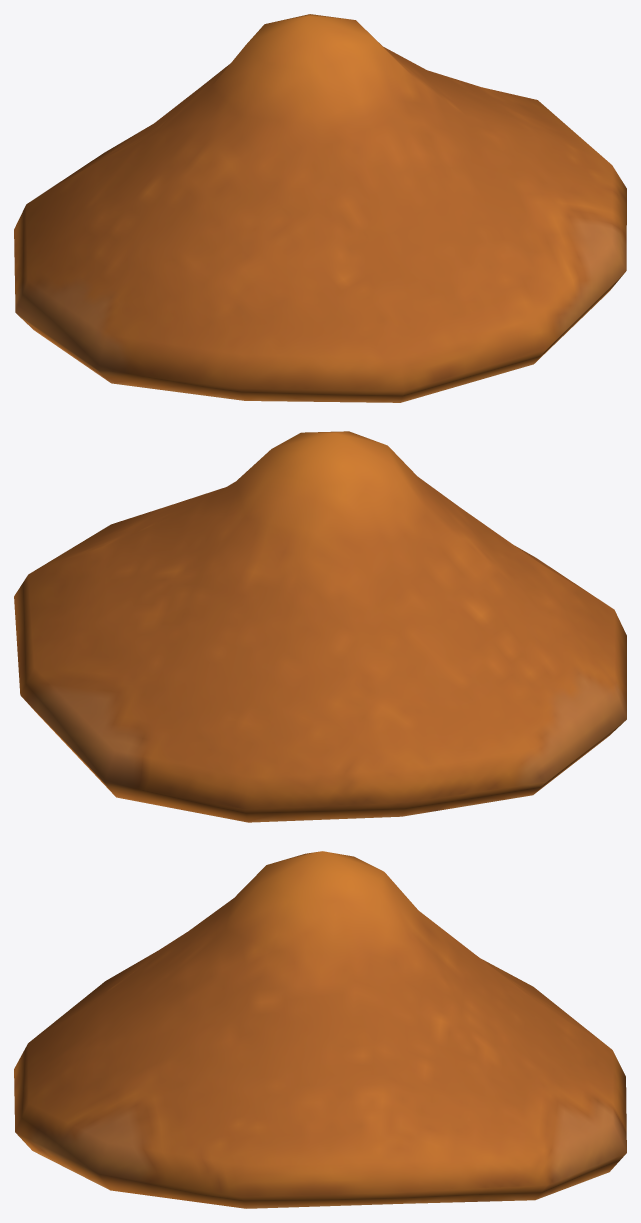
3 views of the same model, one above another, from view 1: azimuth 30°, elevation 25°; view 2: azimuth 150°, elevation 25°; view 3: azimuth 270°, elevation 25° (orthographic).
Parts seen in each view (by area): view 1: submesh_0; view 2: submesh_0; view 3: submesh_0.
Part boxes in pixels (bbox=[...]): submesh_0: bbox=[14, 14, 626, 402]; submesh_0: bbox=[14, 431, 626, 822]; submesh_0: bbox=[14, 851, 626, 1208].
Size of the model in its own units: 0.2002 by 0.1011 by 0.1983.
Materials: 1 (1 with a texture image).
